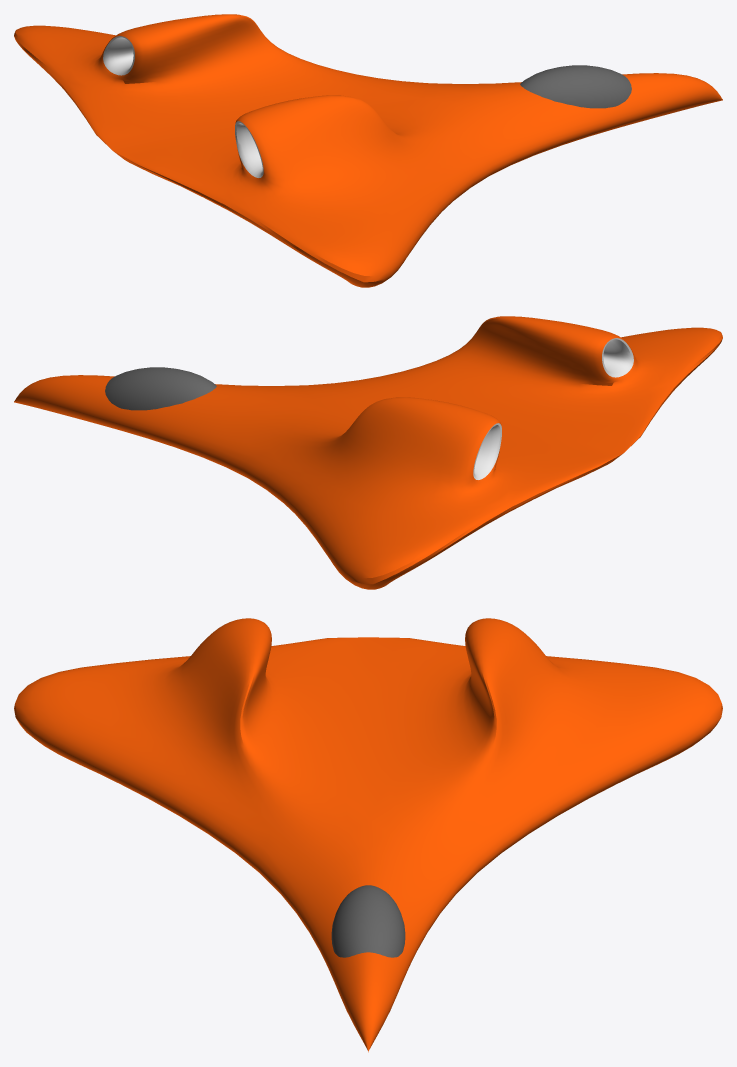
The model's file is Axe.fbx.
The picture shows the model from 3 angles, top to bottom: view 1: azimuth 30°, elevation 25°; view 2: azimuth 150°, elevation 25°; view 3: azimuth 270°, elevation 25°; orthographic projection. The views are drawn at different scales.
Visible parts, largest first — view 1: Cube.003, Sphere; view 2: Cube.003, Sphere; view 3: Cube.003, Sphere.
Part boxes in pixels (x1,y1,x2,y2): Cube.003: [14, 14, 722, 287]; Sphere: [520, 65, 631, 108]; Cube.003: [14, 316, 722, 589]; Sphere: [105, 367, 216, 410]; Cube.003: [14, 618, 722, 1052]; Sphere: [331, 885, 405, 957].
Bounding box in the file's own units: 1168 × 287 × 1121.
